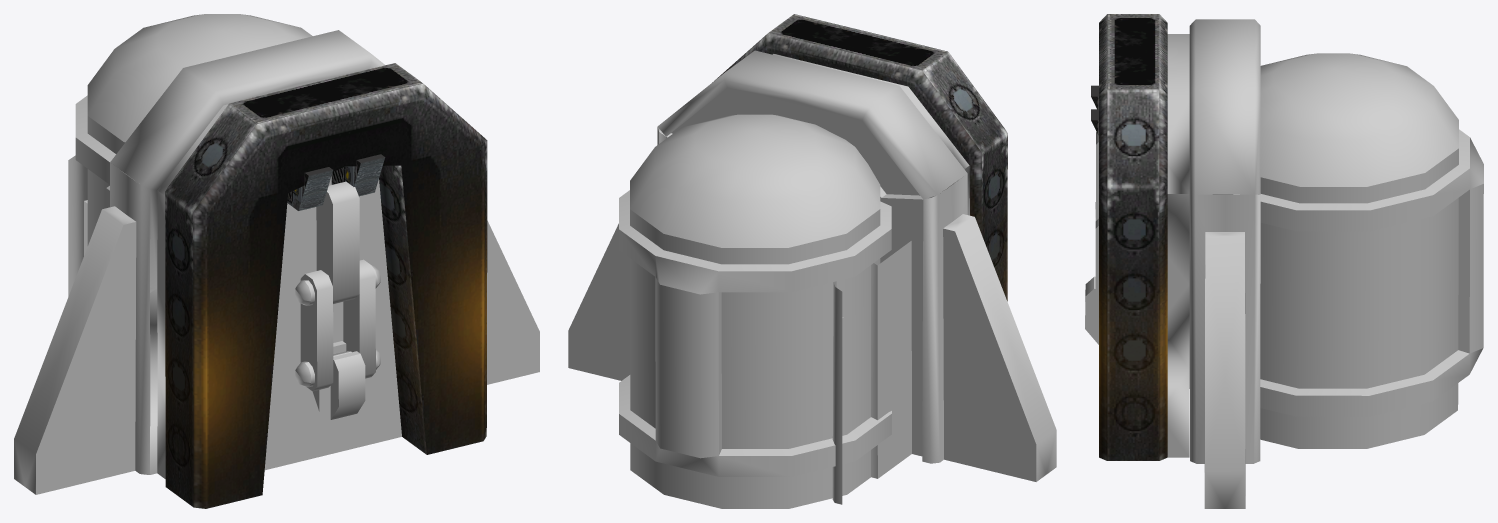
File: pad_cloak.dae
The picture shows the model from 3 angles, left to right: view 1: azimuth 30°, elevation 25°; view 2: azimuth 150°, elevation 25°; view 3: azimuth 270°, elevation 25°; orthographic projection. The views are drawn at different scales.
Parts seen in each view (by area): view 1: Base, arm2, arm1, arm, claw1; view 2: Base; view 3: Base, claw1.
Part boxes in pixels (left/top/right/bottom): Base: left=14, top=14, right=539, bottom=508; arm2: left=295, top=259, right=380, bottom=391; arm1: left=295, top=181, right=380, bottom=305; arm: left=287, top=154, right=385, bottom=210; claw1: left=330, top=351, right=365, bottom=419; Base: left=568, top=14, right=1056, bottom=508; Base: left=1099, top=14, right=1483, bottom=508; claw1: left=1085, top=276, right=1098, bottom=344.
Size of the model in its own units: 71.3 by 52.46 by 49.8.
